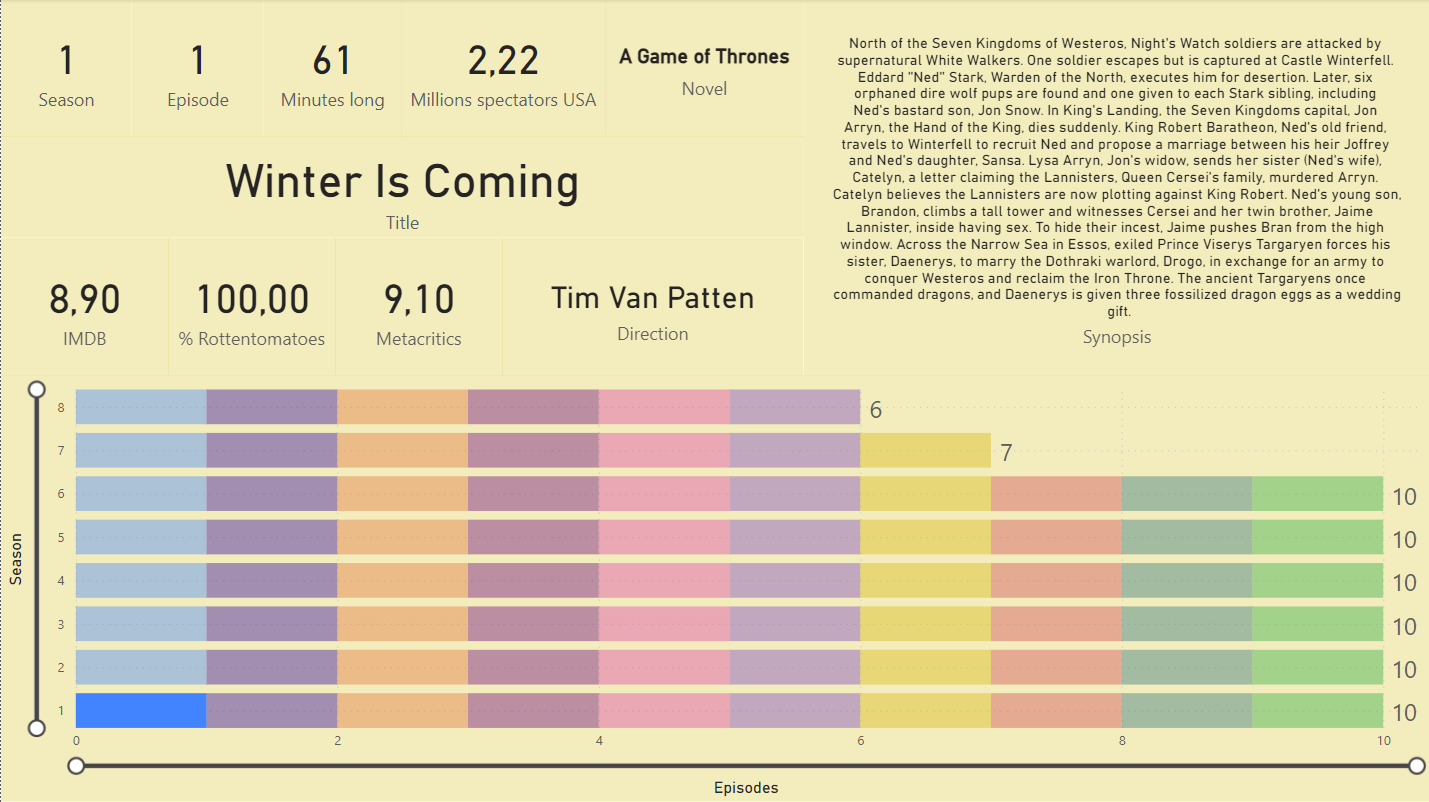

Layout of this report page (visuals, bound fields, positions):
{"tool":"powerbi","page":{"name":"Episodes","canvas":[1280,720],"ordinal":0},"visuals":[{"type":"barChart","fields":{"Category":["got_clean2.season"],"Series":["got_clean2.no.ofepisode(season)"],"Y":["got_clean2.no.ofepisode(overall)"]},"box":[0,336.7,1279.7,382.4],"z":0},{"type":"card","fields":{"Values":["got_clean2.u.s.viewers(millions)"]},"box":[358.2,0,182.7,122.7],"z":1000},{"type":"card","fields":{"Values":["got_clean2.titleoftheepisode"]},"box":[0,122.7,719.1,91.3],"z":2000},{"type":"card","fields":{"Values":["got_clean2.season"]},"box":[0,0,117.3,122.7],"z":3000},{"type":"card","fields":{"Values":["got_clean2.no.ofepisode(season)"]},"box":[117.3,0,118.2,122.7],"z":4000},{"type":"card","fields":{"Values":["got_clean2.synopsis"]},"box":[719.1,0,560.6,336.7],"z":5000},{"type":"card","fields":{"Values":["got_clean2.imdbrating"]},"box":[0,214,149.6,122.7],"z":6000},{"type":"card","fields":{"Values":["got_clean2.rottentomatoesrating(percentage)"]},"box":[149.6,214,149.6,122.7],"z":7000},{"type":"card","fields":{"Values":["got_clean2.metacriticratings"]},"box":[299.1,214,149.6,122.7],"z":8000},{"type":"card","fields":{"Values":["got_clean2.runningtime(minutes)"]},"box":[235.5,0,122.7,122.7],"z":9000},{"type":"card","fields":{"Values":["got_clean2.directedby"]},"box":[448.7,214,270.4,122.7],"z":10000},{"type":"card","fields":{"Values":["got_clean2.novel(s)adapted"]},"box":[540.9,0,178.2,122.7],"z":11000}]}

Visuals, with their boxes in screenshot pixels (x1, y1, x2, y2), scaled from the page's 1280x720 canvas onto the 1429x802 screenshot:
barChart - got_clean2.season x got_clean2.no.ofepisode(season): <bbox>0, 375, 1428, 801</bbox>
card - got_clean2.u.s.viewers(millions): <bbox>400, 0, 604, 137</bbox>
card - got_clean2.titleoftheepisode: <bbox>0, 137, 803, 238</bbox>
card - got_clean2.season: <bbox>0, 0, 131, 137</bbox>
card - got_clean2.no.ofepisode(season): <bbox>131, 0, 263, 137</bbox>
card - got_clean2.synopsis: <bbox>803, 0, 1428, 375</bbox>
card - got_clean2.imdbrating: <bbox>0, 238, 167, 375</bbox>
card - got_clean2.rottentomatoesrating(percentage): <bbox>167, 238, 334, 375</bbox>
card - got_clean2.metacriticratings: <bbox>334, 238, 501, 375</bbox>
card - got_clean2.runningtime(minutes): <bbox>263, 0, 400, 137</bbox>
card - got_clean2.directedby: <bbox>501, 238, 803, 375</bbox>
card - got_clean2.novel(s)adapted: <bbox>604, 0, 803, 137</bbox>
